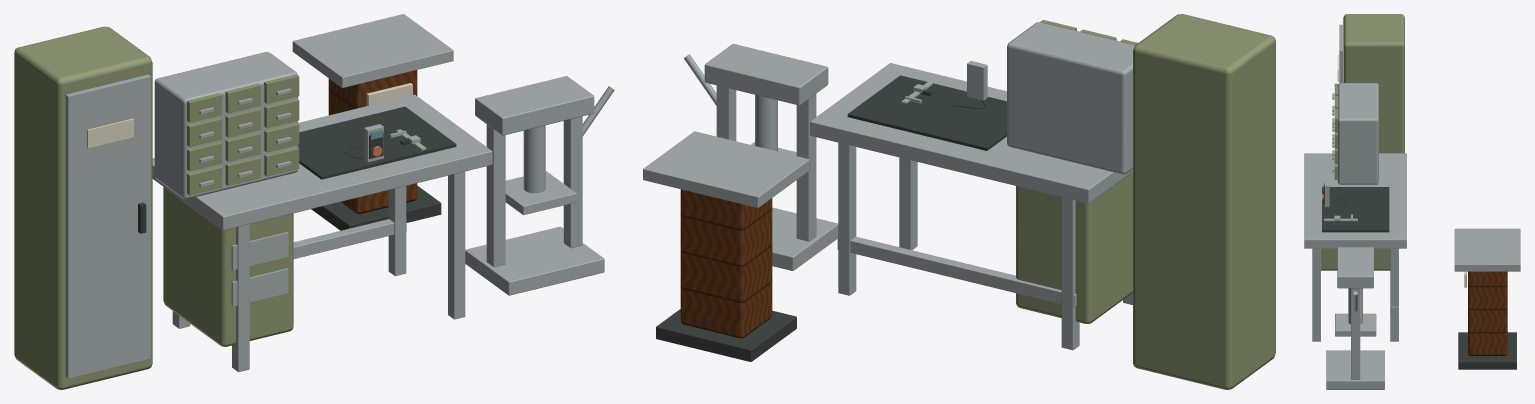
Rendered from research-and-crafting-progression-advanced-prototype-l-eedeaf1d__2887.glb.
3 views of the same model, side by side, from view 1: azimuth 30°, elevation 25°; view 2: azimuth 150°, elevation 25°; view 3: azimuth 270°, elevation 25° (orthographic). The views are drawn at different scales.
Parts seen in each view (by area): view 1: 005-research-locker/door/metal, 005-research-locker/0, 000-precision-research-bench/0, 004-compression-test-press/0, 000-precision-research-bench/1, 003-component-drawer-bank/0, 006-prototype-display-pedestal/2, 000-precision-research-bench/4, 006-prototype-display-pedestal/1, 006-prototype-display-pedestal/0, 000-precision-research-bench/drawer-low/metal, 000-precision-research-bench/drawer/metal (+14 smaller); view 2: 005-research-locker/0, 000-precision-research-bench/0, 003-component-drawer-bank/0, 004-compression-test-press/0, 006-prototype-display-pedestal/1, 000-precision-research-bench/1, 006-prototype-display-pedestal/2, 000-precision-research-bench/4, 006-prototype-display-pedestal/0, 001-multimeter/0; view 3: 000-precision-research-bench/0, 005-research-locker/0, 004-compression-test-press/0, 003-component-drawer-bank/0, 006-prototype-display-pedestal/1, 006-prototype-display-pedestal/2, 000-precision-research-bench/4, 006-prototype-display-pedestal/0, 000-precision-research-bench/1, 005-research-locker/door/metal.
Part boxes in pixels (x1=…): 005-research-locker/door/metal: x1=65, y1=74, x2=150, y2=378; 005-research-locker/0: x1=14, y1=26, x2=152, y2=389; 000-precision-research-bench/0: x1=152, y1=94, x2=492, y2=372; 004-compression-test-press/0: x1=465, y1=76, x2=604, y2=295; 000-precision-research-bench/1: x1=163, y1=187, x2=293, y2=346; 003-component-drawer-bank/0: x1=154, y1=52, x2=298, y2=199; 006-prototype-display-pedestal/2: x1=292, y1=14, x2=453, y2=87; 000-precision-research-bench/4: x1=298, y1=106, x2=456, y2=179; 006-prototype-display-pedestal/1: x1=328, y1=70, x2=417, y2=213; 006-prototype-display-pedestal/0: x1=311, y1=185, x2=441, y2=230; 000-precision-research-bench/drawer-low/metal: x1=231, y1=268, x2=288, y2=306; 000-precision-research-bench/drawer/metal: x1=231, y1=232, x2=288, y2=270; 005-research-locker/0: x1=1133, y1=14, x2=1275, y2=389; 000-precision-research-bench/0: x1=810, y1=63, x2=1132, y2=350; 003-component-drawer-bank/0: x1=1007, y1=22, x2=1134, y2=174; 004-compression-test-press/0: x1=704, y1=44, x2=838, y2=270; 006-prototype-display-pedestal/1: x1=680, y1=189, x2=772, y2=338; 000-precision-research-bench/1: x1=1016, y1=171, x2=1132, y2=323; 006-prototype-display-pedestal/2: x1=643, y1=131, x2=809, y2=207; 000-precision-research-bench/4: x1=847, y1=75, x2=1006, y2=150; 006-prototype-display-pedestal/0: x1=656, y1=309, x2=796, y2=361; 001-multimeter/0: x1=967, y1=61, x2=987, y2=100; 000-precision-research-bench/0: x1=1304, y1=153, x2=1406, y2=341; 005-research-locker/0: x1=1343, y1=14, x2=1404, y2=153; 004-compression-test-press/0: x1=1326, y1=247, x2=1384, y2=389; 003-component-drawer-bank/0: x1=1332, y1=83, x2=1378, y2=184; 006-prototype-display-pedestal/1: x1=1468, y1=271, x2=1507, y2=355; 006-prototype-display-pedestal/2: x1=1454, y1=228, x2=1520, y2=271; 000-precision-research-bench/4: x1=1322, y1=187, x2=1389, y2=232; 006-prototype-display-pedestal/0: x1=1458, y1=332, x2=1516, y2=369; 000-precision-research-bench/1: x1=1321, y1=248, x2=1390, y2=270; 005-research-locker/door/metal: x1=1339, y1=24, x2=1342, y2=83.
Bounding box in the file's own units: 2.93 × 1.55 × 1.48.
7 materials, 1 textured.
